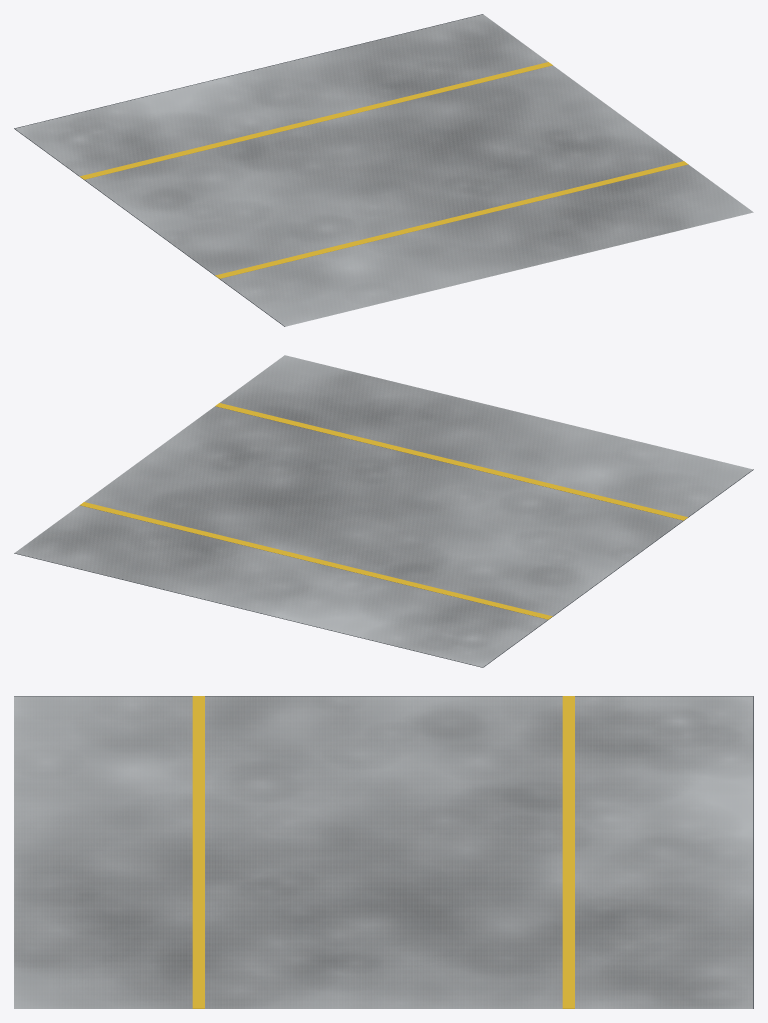
Rendered from floor_6m_aisle.glb.
3 renders of one model, top to bottom at view 1: azimuth 30°, elevation 25°; view 2: azimuth 150°, elevation 25°; view 3: azimuth 270°, elevation 25°, orthographic. The views are drawn at different scales.
Visible parts, largest first — view 1: Floor_6m_Aisle_floor_concrete, Floor_6m_Aisle_safety_yellow, Floor_6m_Aisle_frame_dark; view 2: Floor_6m_Aisle_floor_concrete, Floor_6m_Aisle_safety_yellow, Floor_6m_Aisle_frame_dark; view 3: Floor_6m_Aisle_floor_concrete, Floor_6m_Aisle_safety_yellow, Floor_6m_Aisle_frame_dark.
Boxes of the visible parts, box(x1,y1,x2,y2) form: Floor_6m_Aisle_floor_concrete: box(15, 14, 753, 326); Floor_6m_Aisle_safety_yellow: box(80, 62, 688, 278); Floor_6m_Aisle_frame_dark: box(14, 14, 482, 326); Floor_6m_Aisle_floor_concrete: box(15, 355, 752, 667); Floor_6m_Aisle_safety_yellow: box(80, 403, 687, 619); Floor_6m_Aisle_frame_dark: box(14, 469, 753, 667); Floor_6m_Aisle_floor_concrete: box(14, 696, 753, 1008); Floor_6m_Aisle_safety_yellow: box(192, 696, 574, 1008); Floor_6m_Aisle_frame_dark: box(14, 696, 753, 1008).
Bounding box in the file's own units: 6 × 0.0025 × 6.
3 materials, 1 textured.
